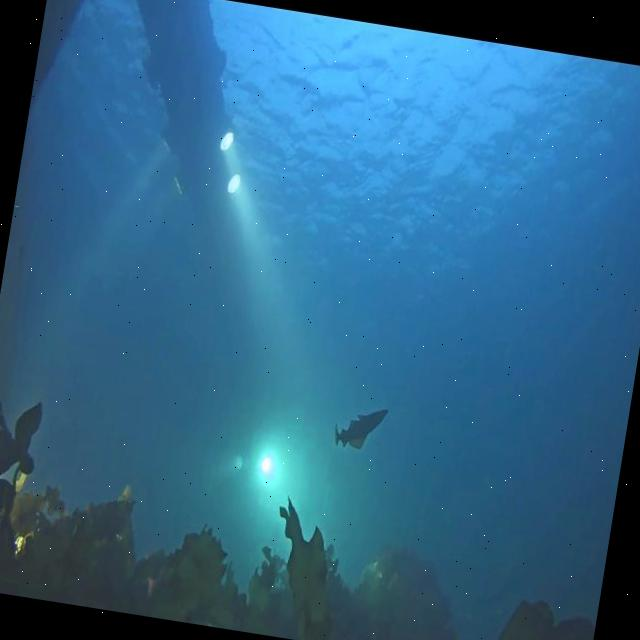fish: (332, 401, 388, 453)
